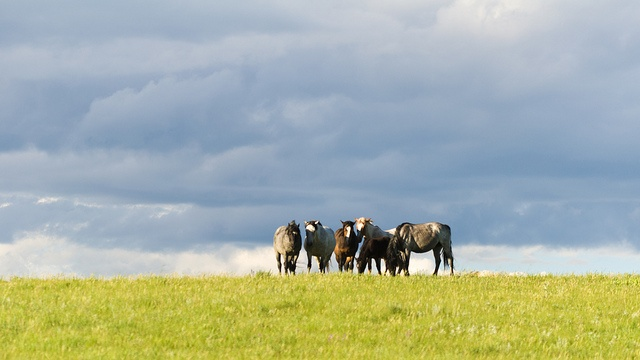horse: (306, 221, 640, 360), (333, 220, 640, 360), (273, 220, 575, 360), (355, 217, 640, 360)
